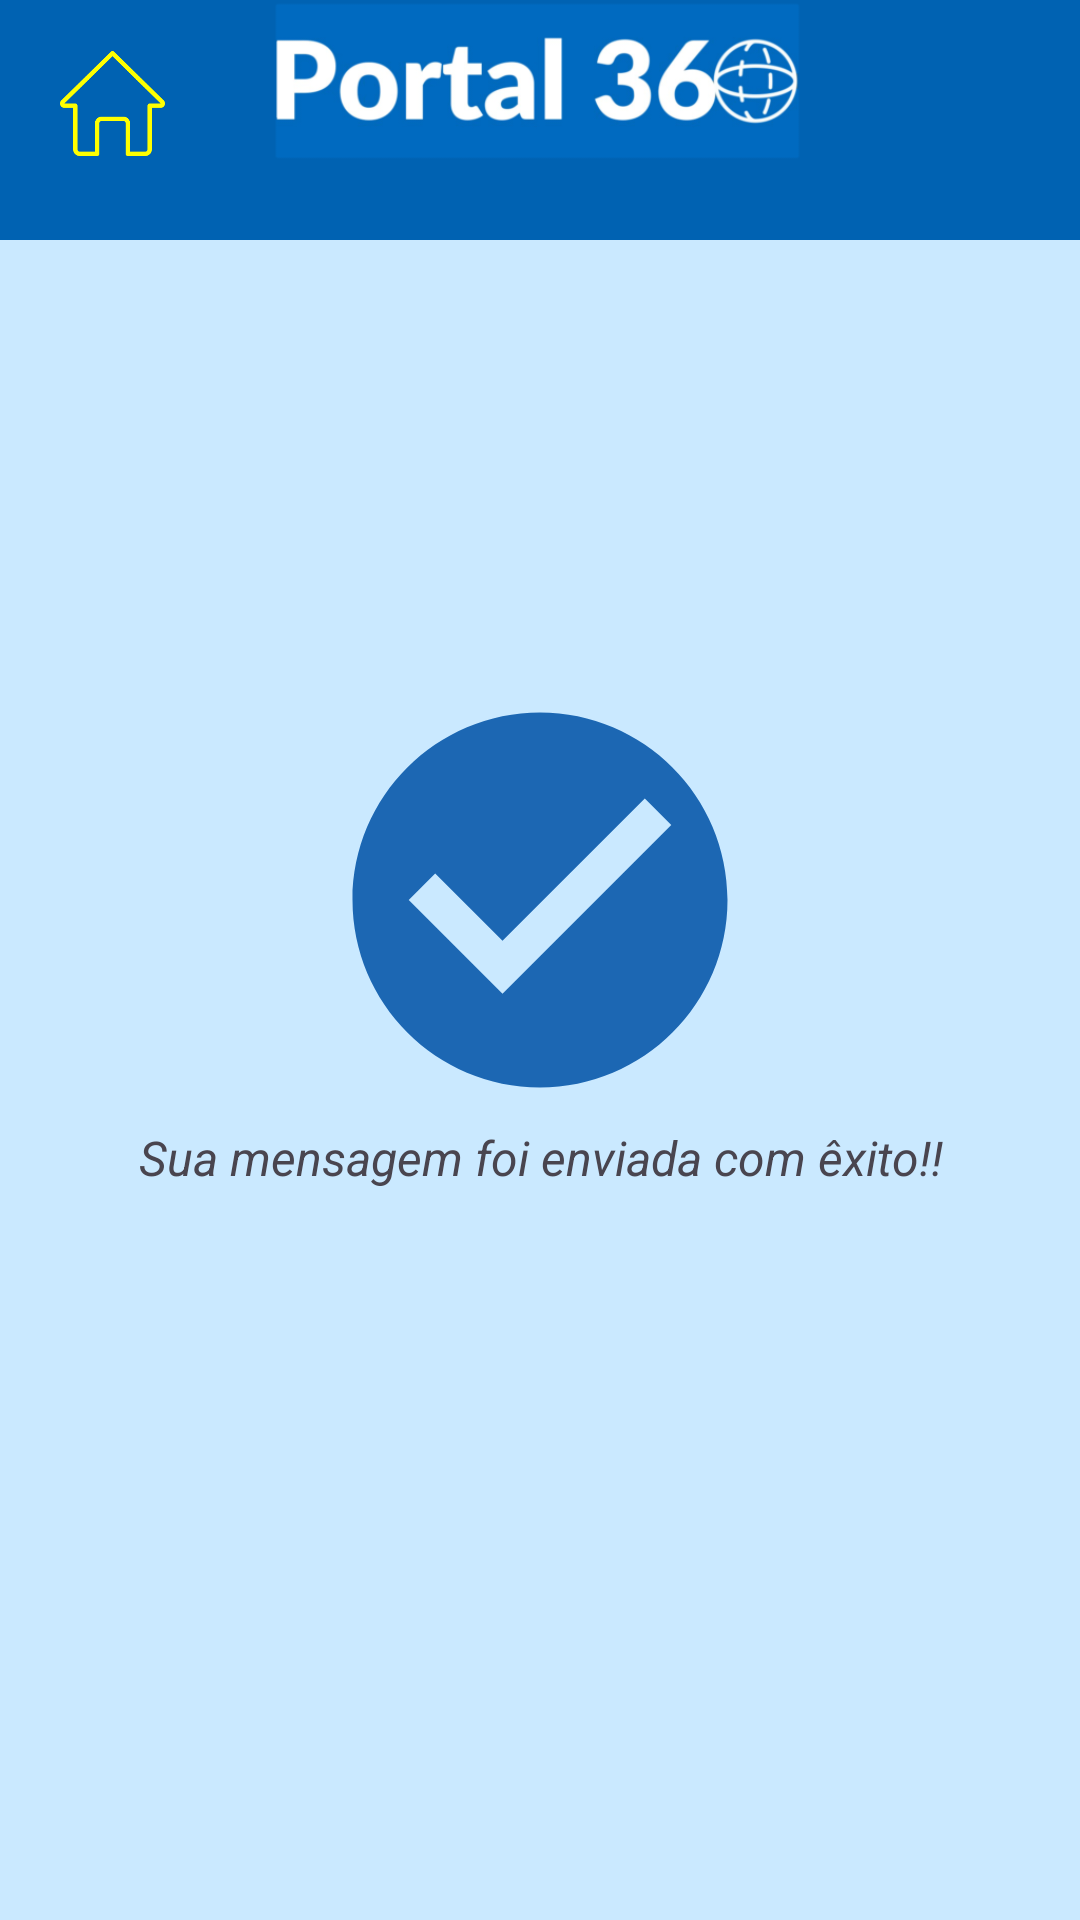

Icon bounding boxes for this 1080*1920 phone screenshot, format detection(x1, y1, x2, y2):
Volte a tela inicial: detection(60, 51, 165, 156)
